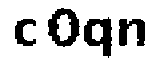0: (43, 4, 81, 50)
c: (11, 15, 38, 46)
n: (118, 16, 149, 49)
q: (82, 16, 117, 60)
